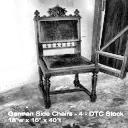chair_success: (26, 2, 104, 109)
